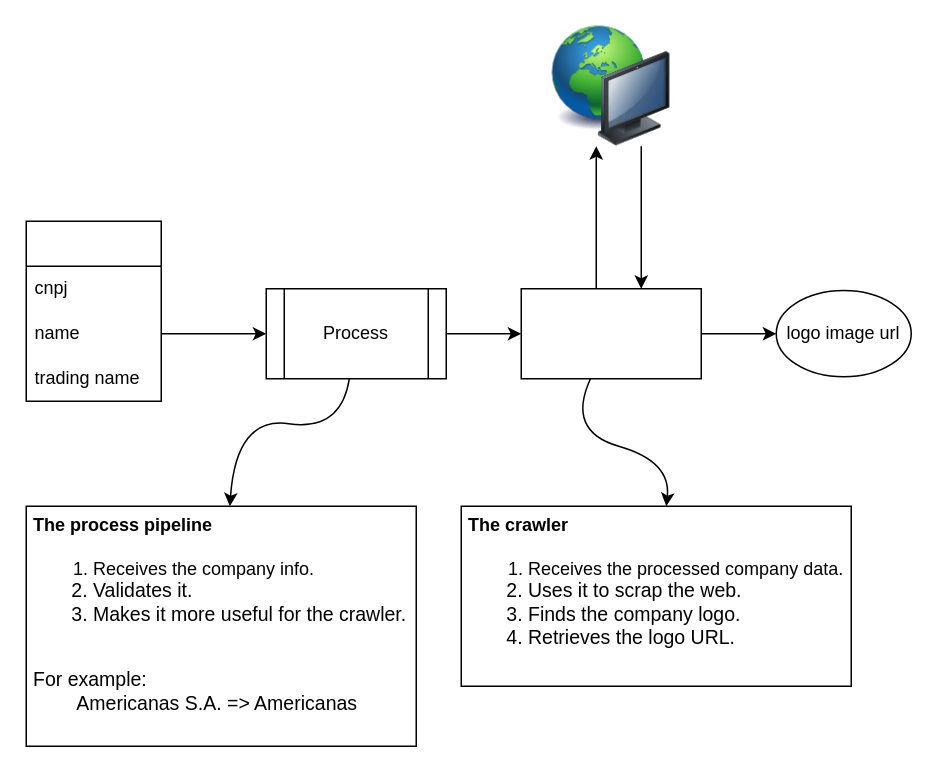
Image size: 938x773. Some labels were removed from this diagram. Each missing label, with the box of its shape:
CompanyInfo: (25, 220, 161, 401)
crawler: (520, 287, 701, 379)
